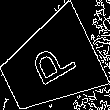P_SW: (22, 37, 78, 94)
